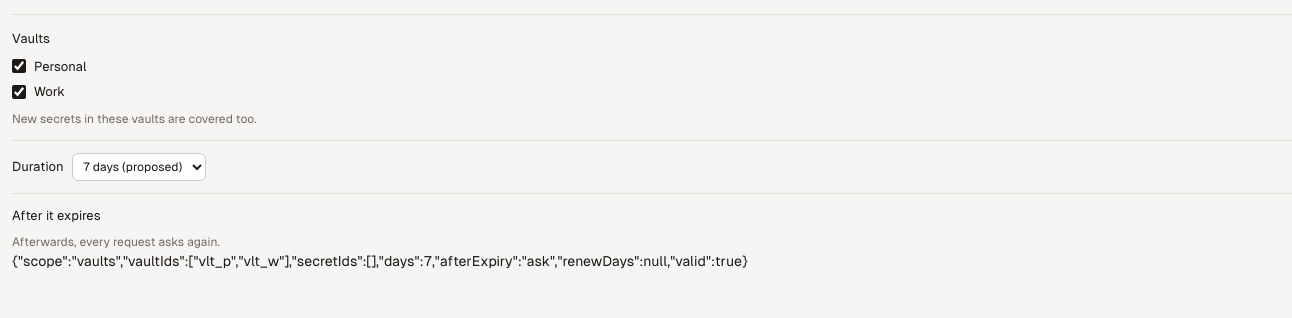
ProposalForm › vault proposals list the vaults (personal vault by its label)
This screenshot has width=1292, height=318.
Check: the heading "Vaults" is shown, box 12,29 -> 50,48
Click the checkbox labelled "Work".
click(19, 92)  # box 12,85 -> 26,99
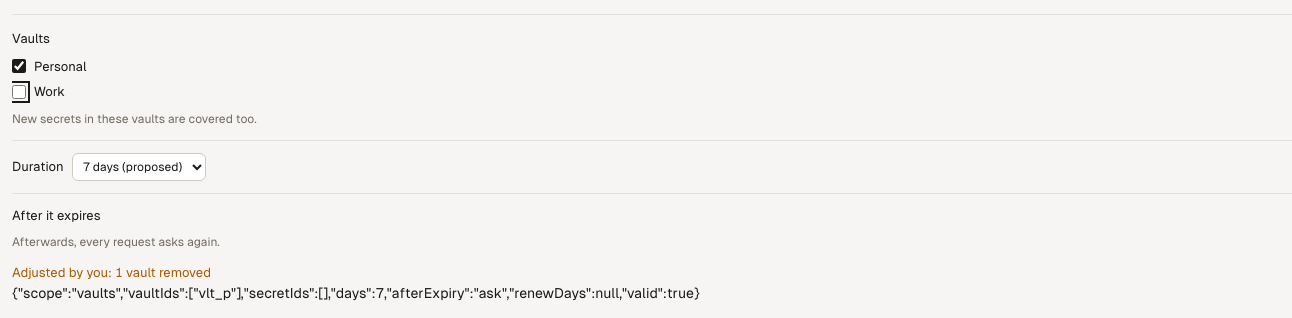
Check: the element showing "Adjusted by you: 1 vault removed" is shown, box 12,265 -> 211,280
